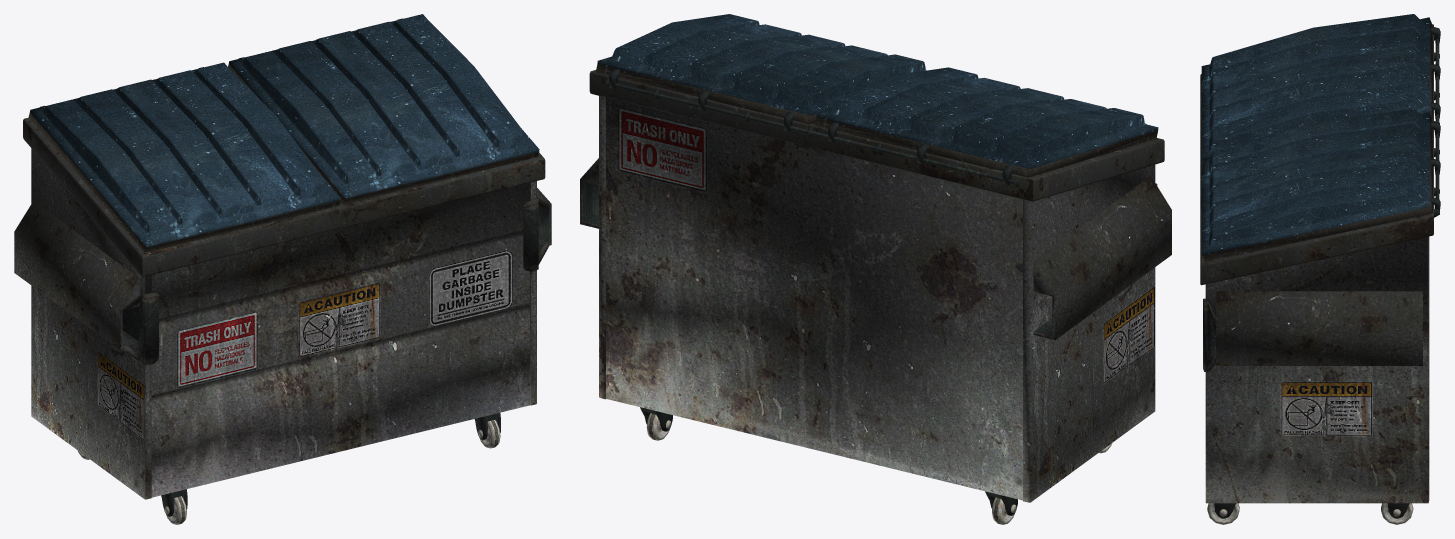
File: dumpster.dae
3 views of the same model, side by side, from view 1: azimuth 30°, elevation 25°; view 2: azimuth 150°, elevation 25°; view 3: azimuth 270°, elevation 25° (orthographic). The views are drawn at different scales.
Visible parts, largest first — view 1: Dumpster2; view 2: Dumpster2; view 3: Dumpster2.
Part boxes in pixels (x1,y1,x2,y2): Dumpster2: (14,14,551,524); Dumpster2: (580,14,1171,524); Dumpster2: (1200,14,1440,524).
Size of what is drawn, in the model's own units: 3.61 by 1.78 by 2.84.
1 material, 1 textured.
